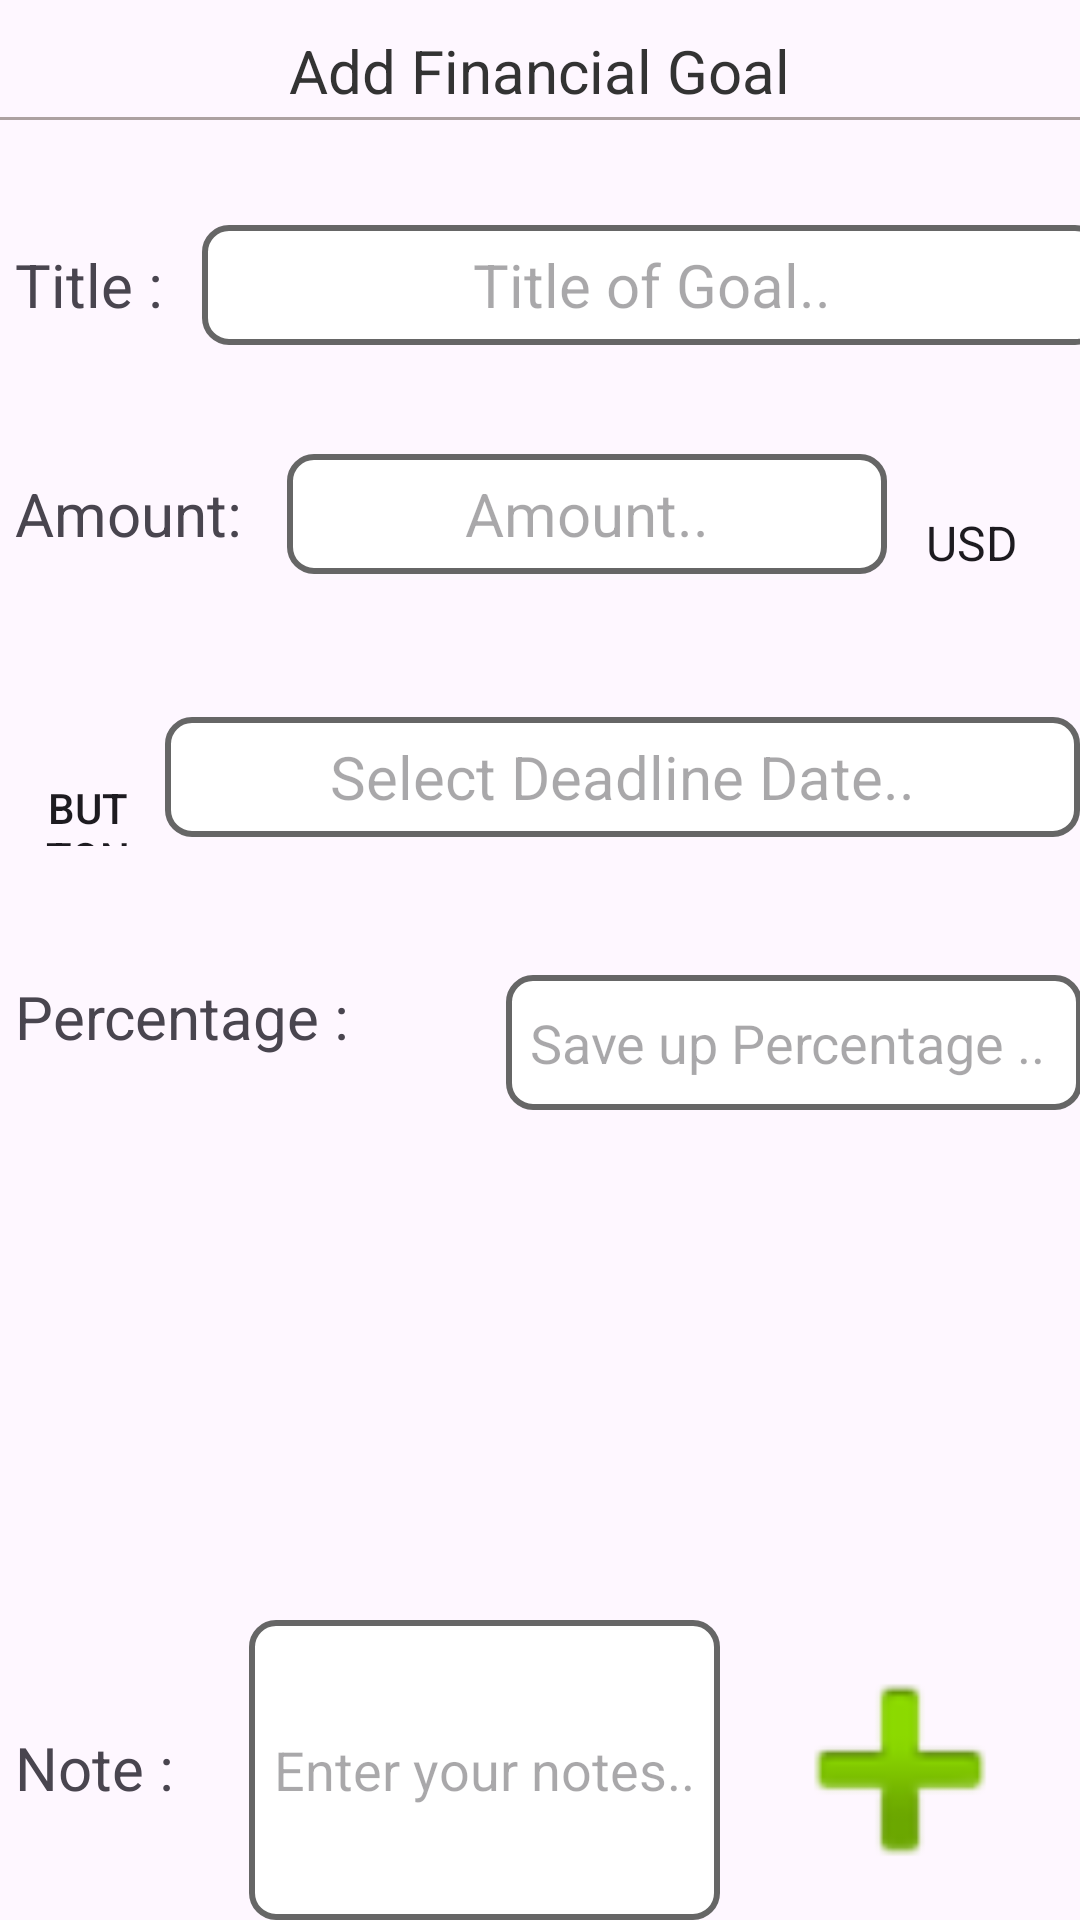

Icon bounding boxes for this 1080 × 1920 phone screenshot, format [left=x1, top=y1, right=x2, bottom=y2]:
add: [left=814, top=1685, right=986, bottom=1855]
